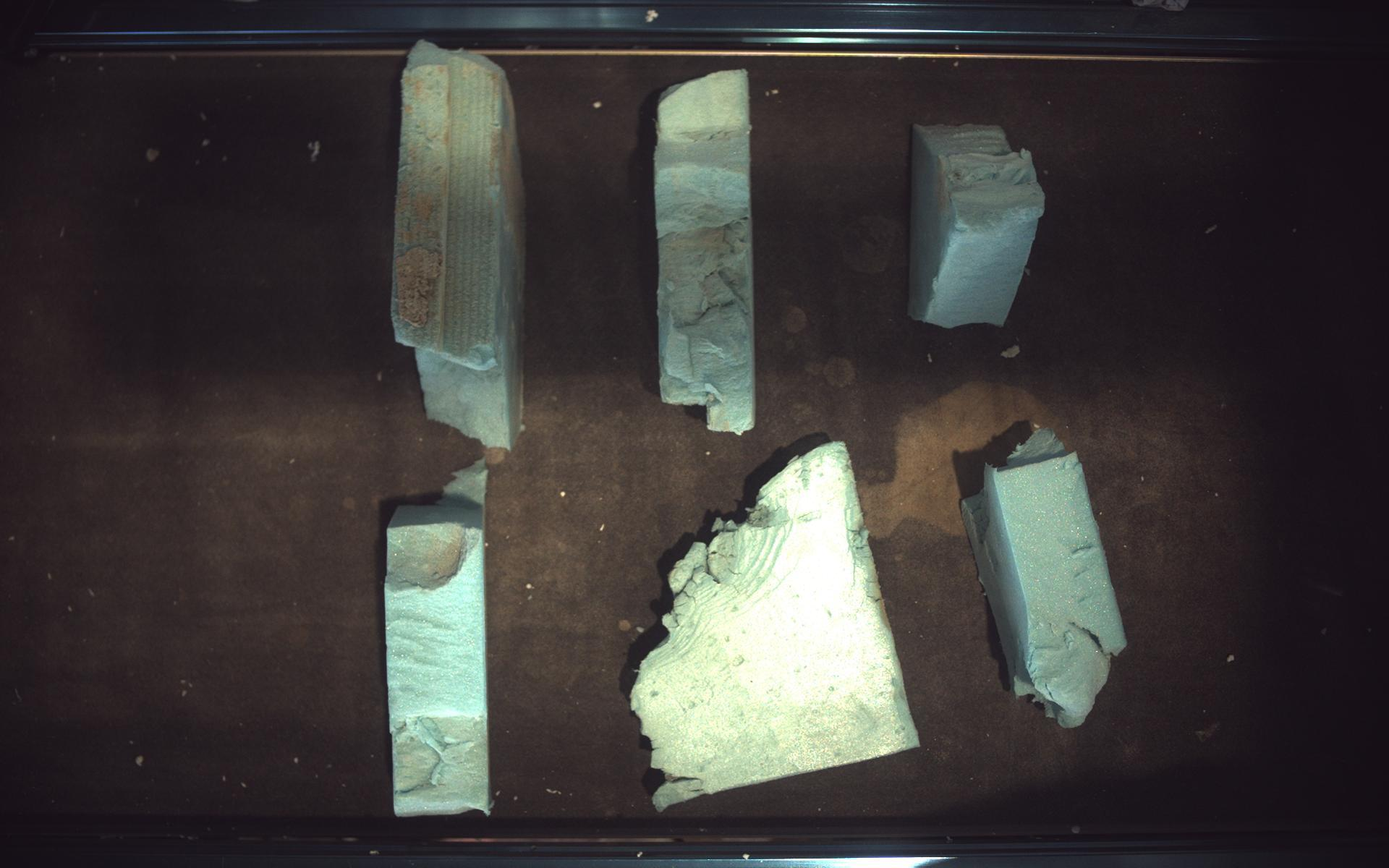foam: (632, 443, 920, 812), (391, 39, 524, 448), (964, 429, 1129, 728), (384, 462, 490, 818), (655, 69, 755, 433), (910, 123, 1047, 327)
